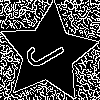J: (23, 28, 75, 73)
